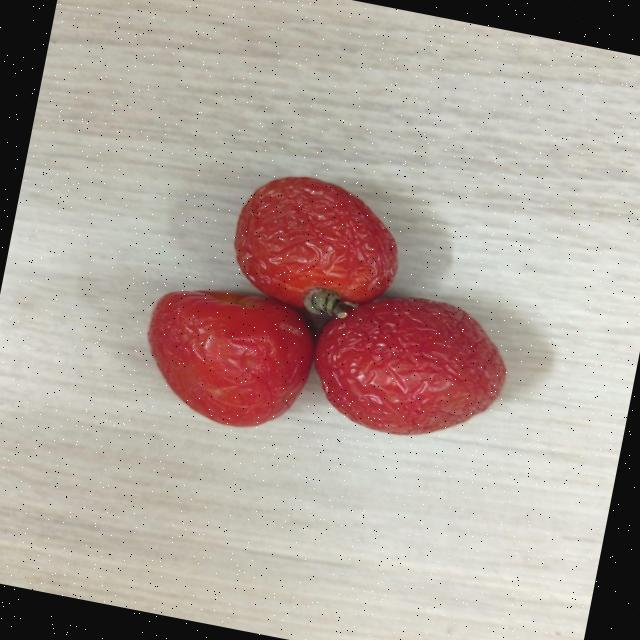overripe: (300, 280, 518, 454), (132, 274, 320, 442), (222, 166, 405, 320)
